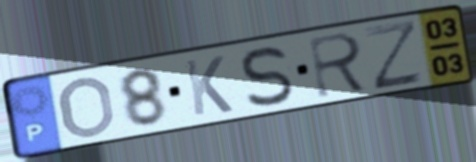8: (114, 66, 171, 129)
K: (182, 53, 237, 118)
O: (57, 75, 118, 140)
R: (305, 29, 372, 102)
S: (238, 44, 296, 109)
Z: (361, 16, 427, 93)
